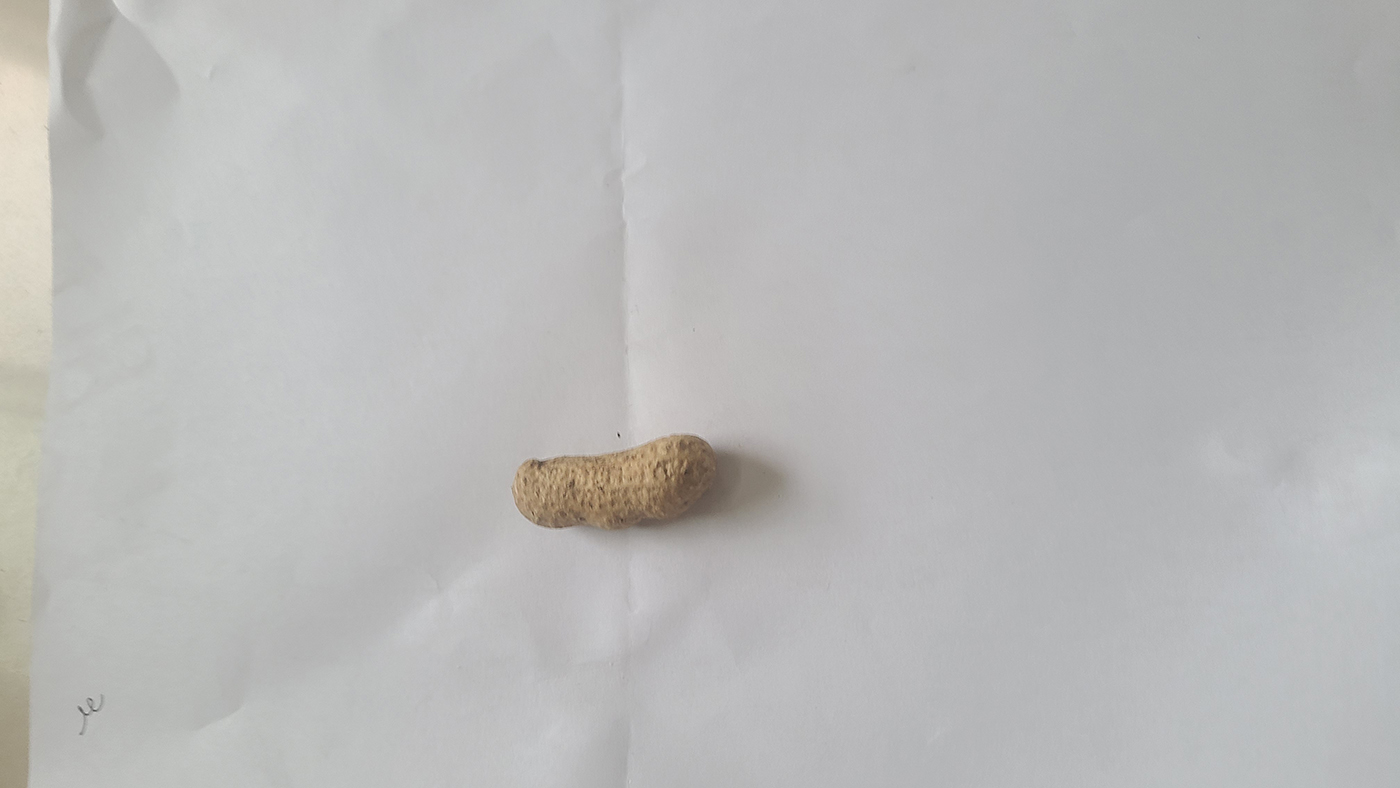h: (510, 429, 721, 533)
